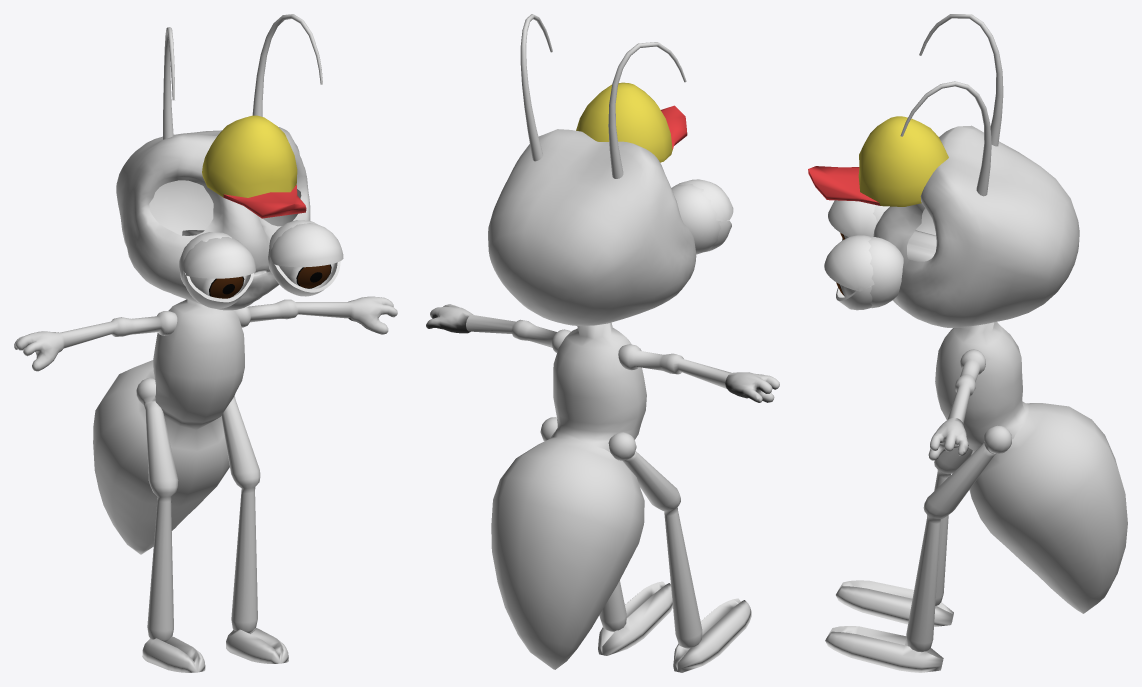
3 views of the same model, side by side, from view 1: azimuth 30°, elevation 25°; view 2: azimuth 150°, elevation 25°; view 3: azimuth 270°, elevation 25° (orthographic). The views are drawn at different scales.
Visible parts, largest first — view 1: ANT.001, Sphere, eyelish.003, eyeball, eyeball.001; view 2: ANT.001, Sphere, eyeball, eyelish.003; view 3: ANT.001, Sphere, eyelish.003, eyeball.001.
Part boxes in pixels (bbox=[...]): ANT.001: bbox=[14, 14, 397, 672]; Sphere: bbox=[202, 115, 306, 218]; eyelish.003: bbox=[182, 223, 343, 308]; eyeball: bbox=[179, 232, 247, 298]; eyeball.001: bbox=[268, 220, 335, 288]; ANT.001: bbox=[426, 14, 779, 672]; Sphere: bbox=[576, 82, 687, 162]; eyeball: bbox=[672, 184, 720, 254]; eyelish.003: bbox=[671, 179, 733, 252]; ANT.001: bbox=[825, 14, 1127, 672]; Sphere: bbox=[808, 116, 948, 206]; eyelish.003: bbox=[824, 200, 876, 310]; eyeball.001: bbox=[836, 236, 903, 308].
Size of the model in its own units: 1.29 by 2.15 by 0.99.
